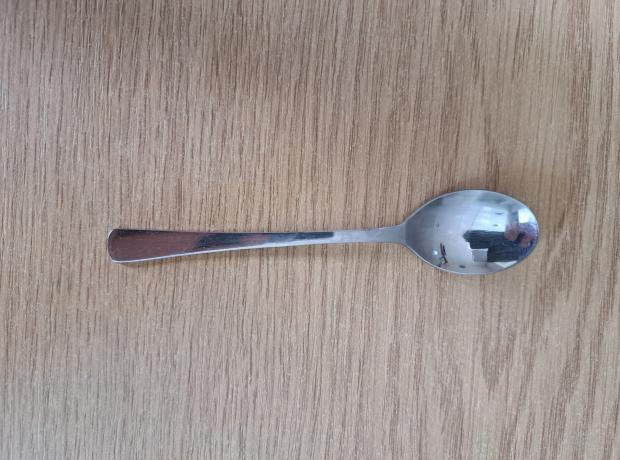metal: (108, 192, 542, 276)
